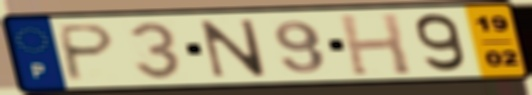3: (122, 20, 185, 81)
9: (413, 12, 468, 72), (272, 19, 327, 74)
H: (336, 11, 415, 77)
N: (198, 17, 269, 79)
P: (57, 22, 119, 83)
